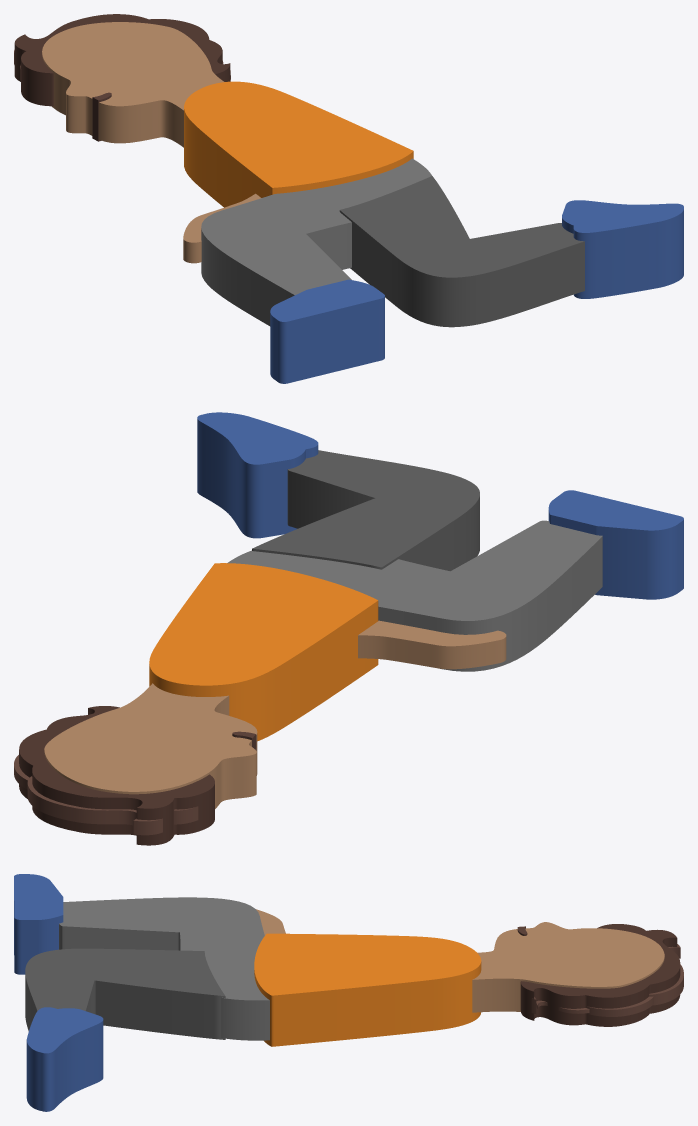
Rendered from emoji_u1f9ce_1f3fd.glb.
3 renders of one model, top to bottom at view 1: azimuth 30°, elevation 25°; view 2: azimuth 150°, elevation 25°; view 3: azimuth 270°, elevation 25°, orthographic. The views are drawn at different scales.
Parts seen in each view (by area): view 1: emoji_u1f9ce_1f3fd; view 2: emoji_u1f9ce_1f3fd; view 3: emoji_u1f9ce_1f3fd.
Part boxes in pixels (x1,y1,x2,y2): emoji_u1f9ce_1f3fd: [14, 14, 683, 383]; emoji_u1f9ce_1f3fd: [14, 412, 683, 845]; emoji_u1f9ce_1f3fd: [14, 874, 683, 1111].
Bounding box in the file's own units: 0.0213 × 0.0032 × 0.0332.
